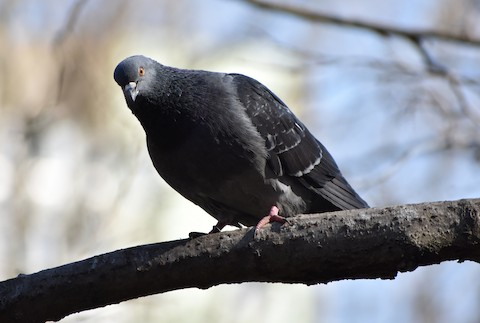pigeon: (108, 49, 392, 248)
